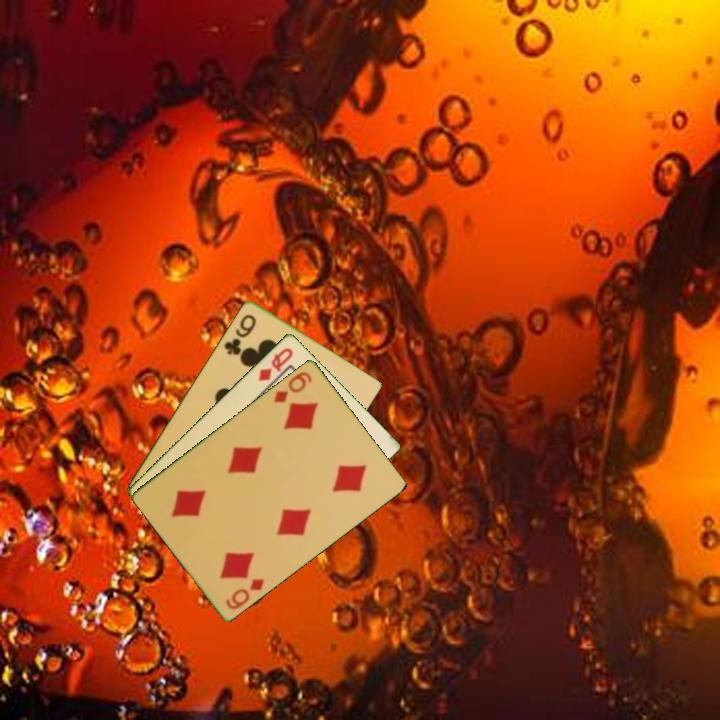6d: (222, 574, 268, 612), (270, 367, 315, 405)
9c: (220, 310, 259, 358)
Qd: (254, 344, 296, 384)
